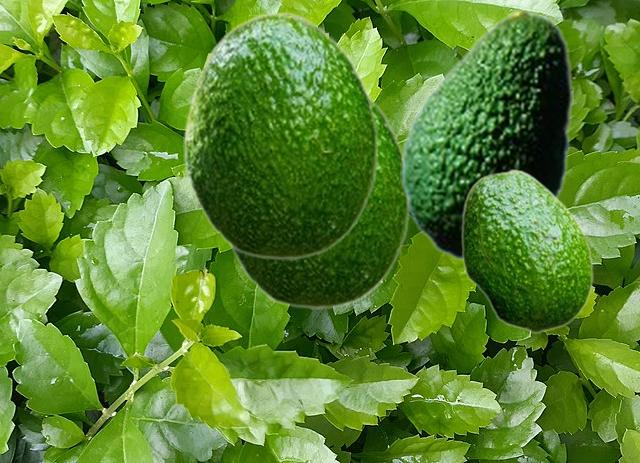avocado: (183, 11, 378, 259), (400, 9, 572, 261), (225, 89, 410, 308), (460, 168, 592, 332)
